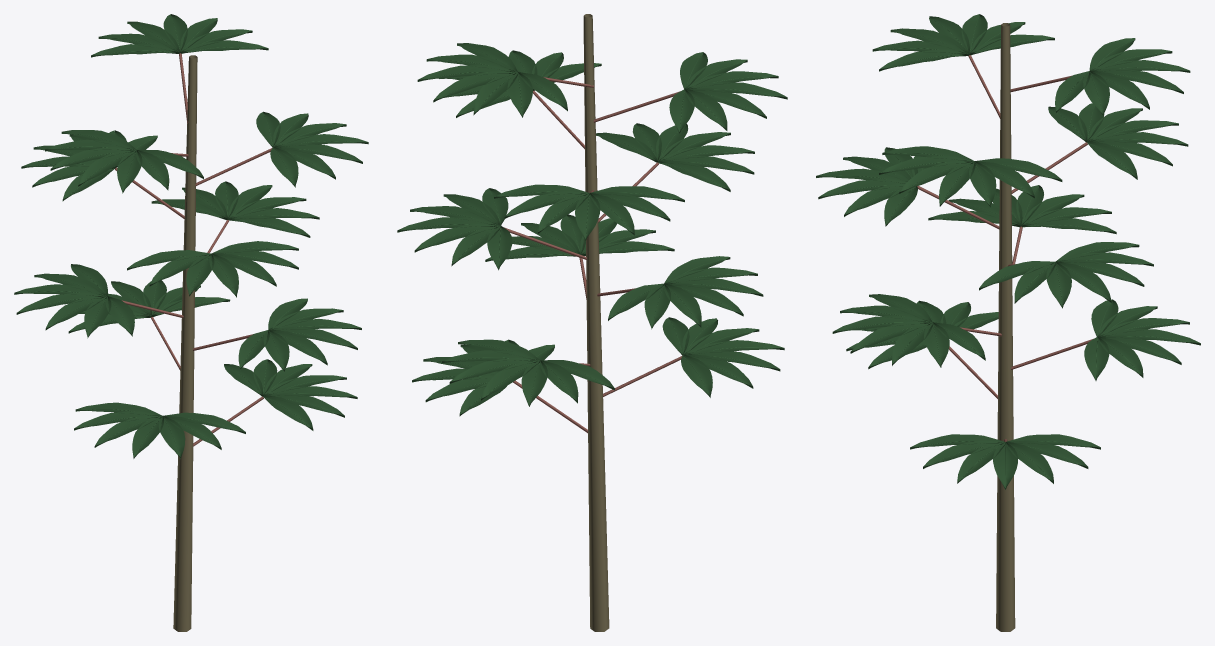
File: yuca.glb
The picture shows the model from 3 angles, left to right: view 1: azimuth 30°, elevation 25°; view 2: azimuth 150°, elevation 25°; view 3: azimuth 270°, elevation 25°; orthographic projection. The views are drawn at different scales.
Parts seen in each view (by area): view 1: yuca; view 2: yuca; view 3: yuca.
Part boxes in pixels (<box>): yuca: <box>14,14,368,631</box>; yuca: <box>397,14,787,631</box>; yuca: <box>816,14,1200,631</box>.
Size of the model in its own units: 1.01 by 1.75 by 1.
